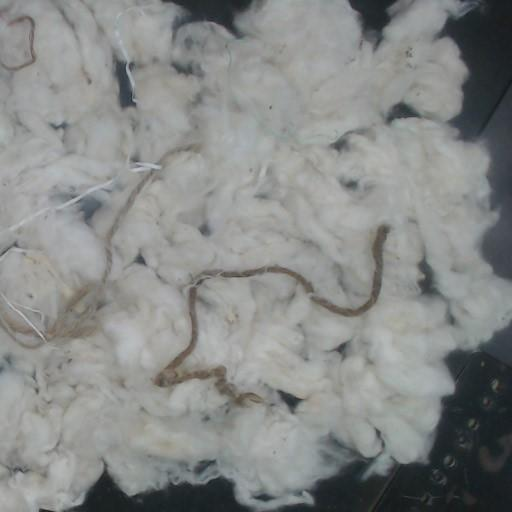cotton: (0, 0, 511, 511)
jute: (155, 225, 389, 403), (98, 169, 158, 288), (0, 16, 35, 71), (160, 146, 191, 159)
thread: (0, 176, 119, 239), (0, 289, 44, 340), (116, 9, 136, 103), (0, 240, 24, 262), (125, 160, 160, 172), (23, 306, 43, 320)
